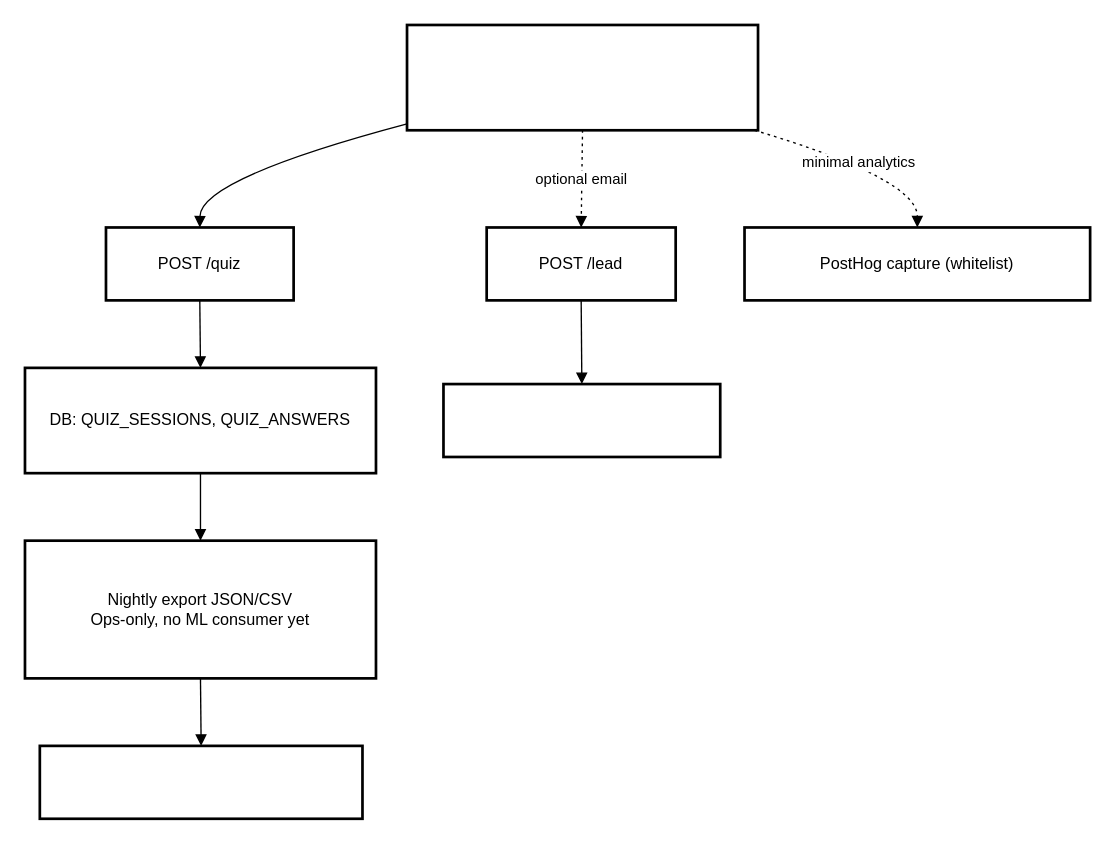
Some shapes in this 1114 by 842 pixel diagram are drawn without their labels. The shapes that lost their labels are listed below. From the top down, each one's box as (x1, y1, x2, y2) in pixels, then its label:
(405, 23, 759, 131): Device answers (no PII in events)
(441, 382, 721, 458): DB: LEADS (consent)
(38, 744, 363, 819): Supabase Storage bucket
